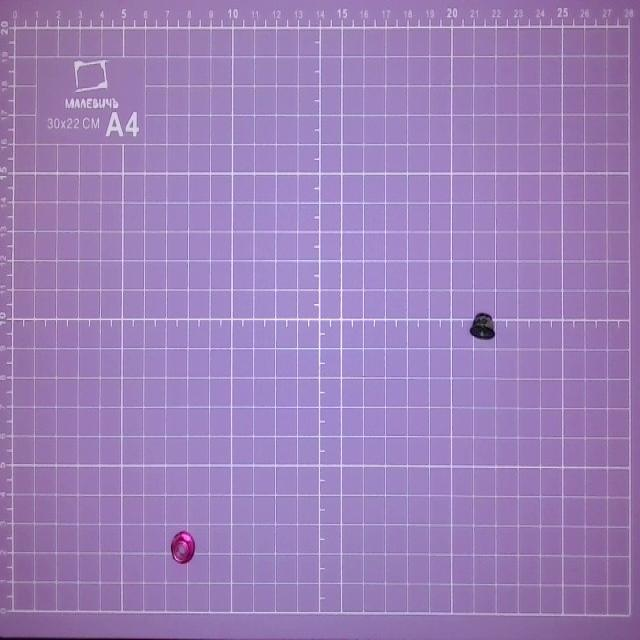screw_M5: (169, 527, 196, 568), (468, 306, 496, 343)
